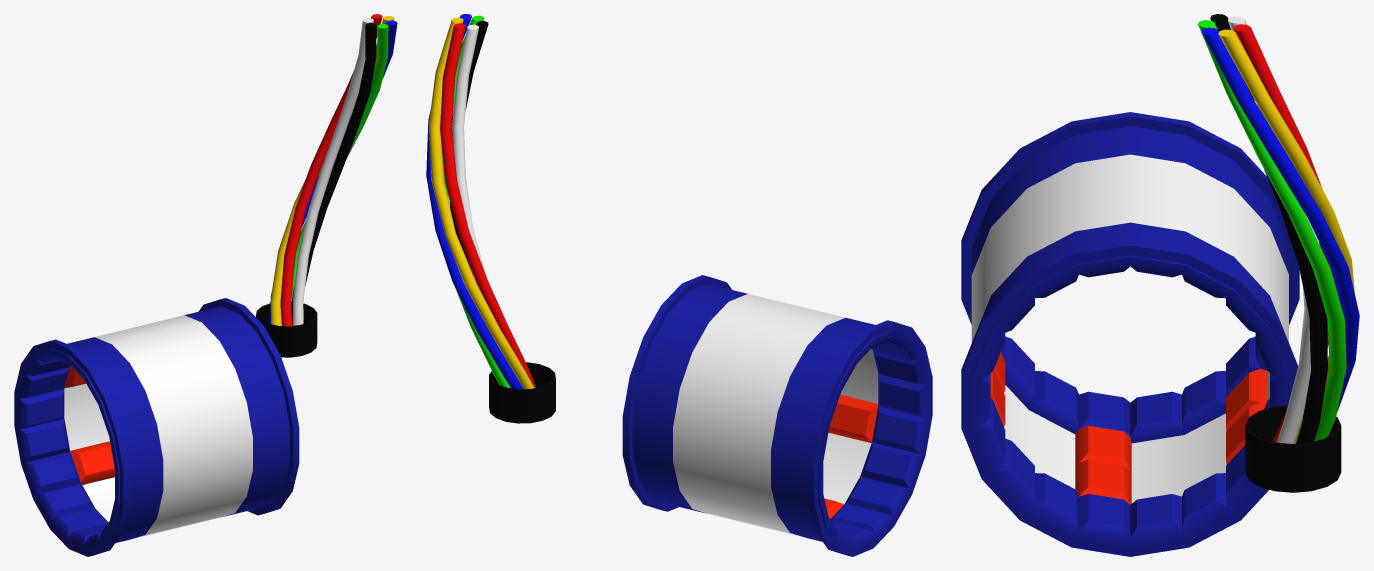
File: cables.FBX
3 renders of one model, left to right at view 1: azimuth 30°, elevation 25°; view 2: azimuth 150°, elevation 25°; view 3: azimuth 270°, elevation 25°, orthographic. The views are drawn at different scales.
Parts seen in each view (by area): view 1: Tube001, Cylinder010, Tube004; view 2: Tube001, Cylinder010, Tube004; view 3: Tube001, Cylinder010, Tube004.
Part boxes in pixels (x1,y1,x2,y2): Tube001: (14,298,299,556); Cylinder010: (269,14,397,326); Tube004: (256,302,317,357); Tube001: (622,275,932,556); Cylinder010: (426,14,535,389); Tube004: (489,362,555,423); Tube001: (961,112,1299,556); Cylinder010: (1198,14,1359,443); Tube004: (1245,405,1341,492).
Bounding box in the file's own units: 303 × 337 × 186.
